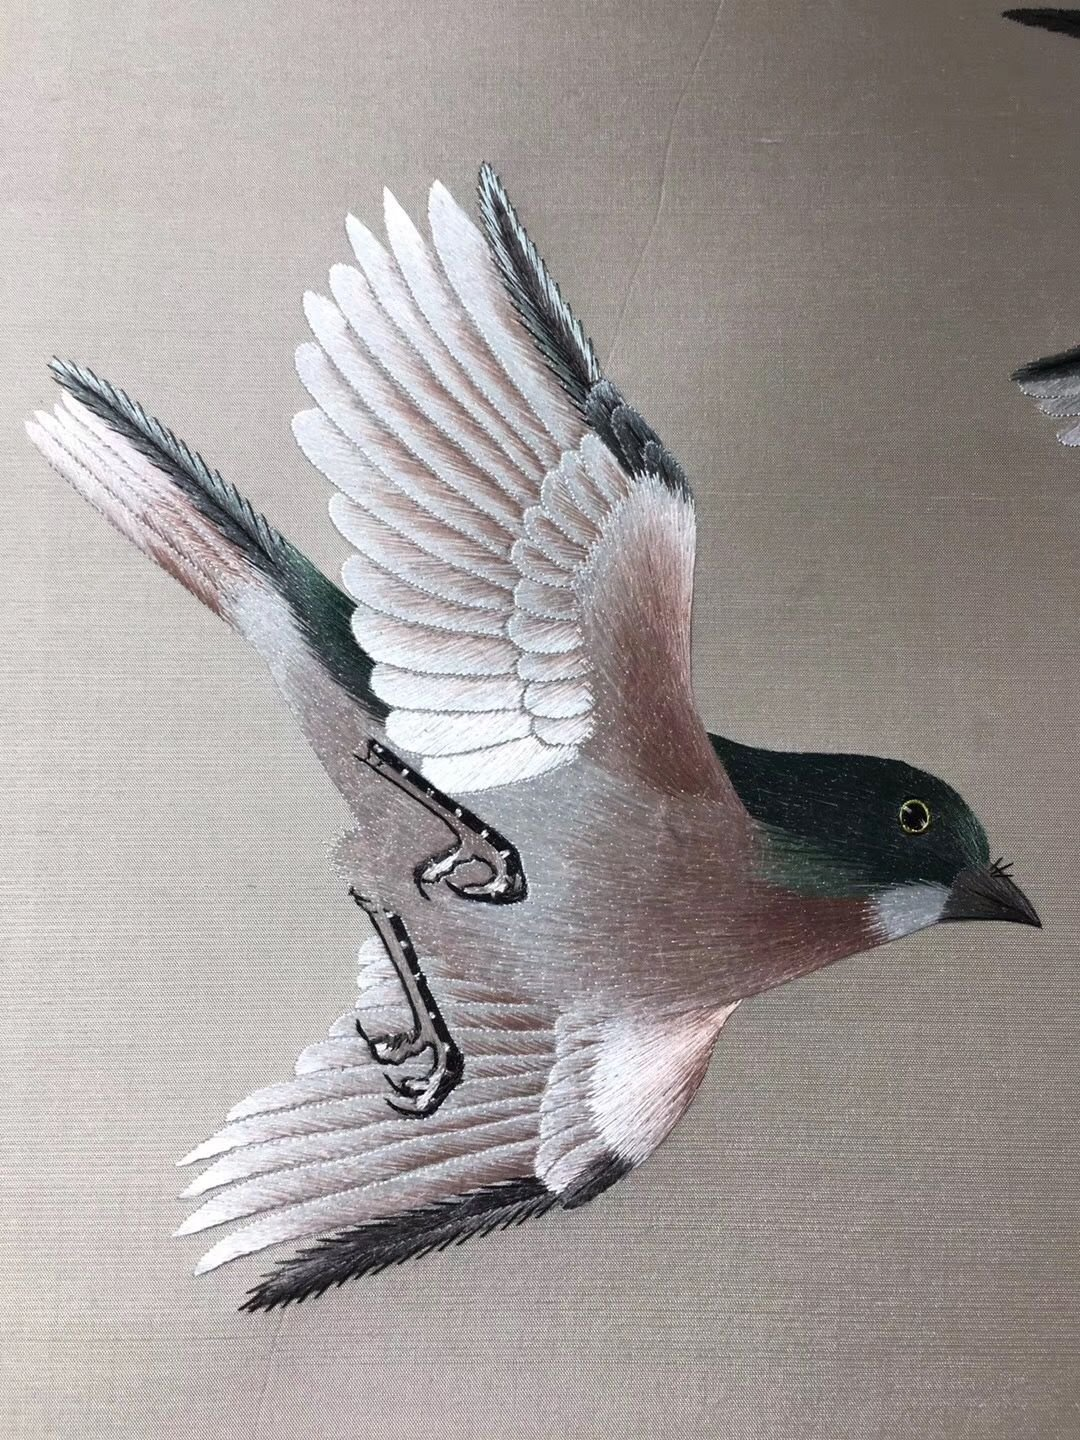bird: (27, 155, 1041, 1312)
